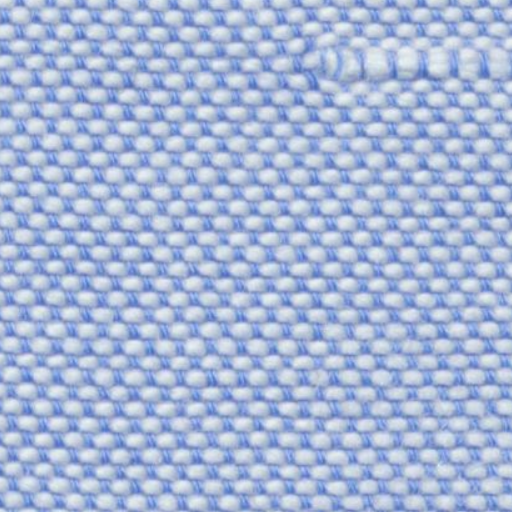DaiSha: (310, 30, 504, 90)
